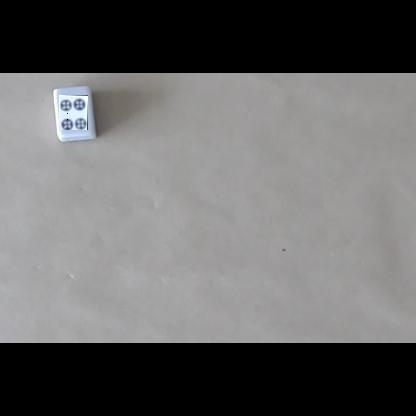4p: (59, 95, 88, 130)
